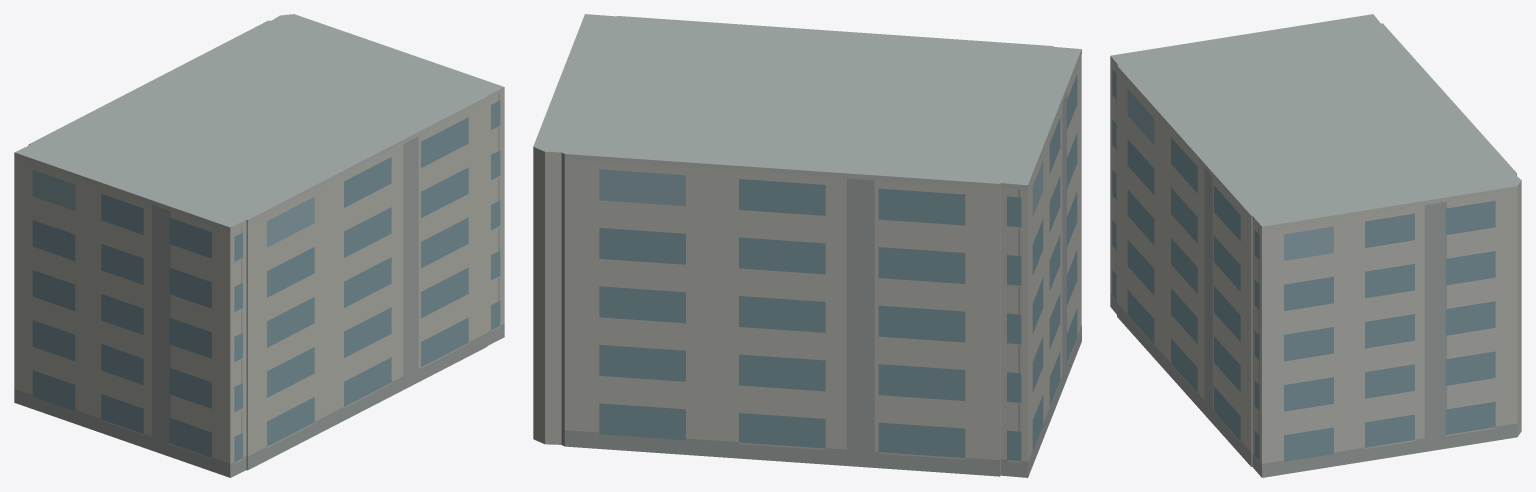
The model's file is survey-upis-32841136.glb.
3 views of the same model, side by side, from view 1: azimuth 30°, elevation 25°; view 2: azimuth 150°, elevation 25°; view 3: azimuth 270°, elevation 25° (orthographic). The views are drawn at different scales.
Visible parts, largest first — view 1: survey-upis-32841136.tmp; view 2: survey-upis-32841136.tmp; view 3: survey-upis-32841136.tmp.
Boxes of the visible parts, left/top/right/bottom form: survey-upis-32841136.tmp: left=14, top=14, right=504, bottom=477; survey-upis-32841136.tmp: left=533, top=14, right=1081, bottom=477; survey-upis-32841136.tmp: left=1110, top=14, right=1521, bottom=477.
Bounding box in the file's own units: 25.08 × 13.8 × 20.48.
